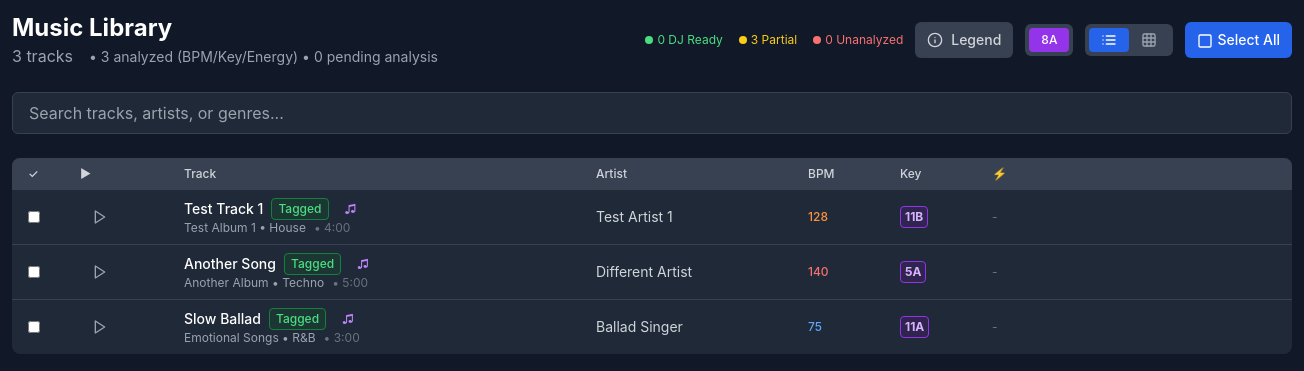
it: LibraryView Component › Search and Filtering › filters tracks by title
The image size is (1304, 371).
Expected: the text "Test Track 1" is shown, x1=184 y1=200 x2=263 y2=217
Type "Test Track" into the field with placeholder "Search tracks, artists, or genres...".
click(652, 113); type("Test Track")  # box x1=12 y1=92 x2=1292 y2=134
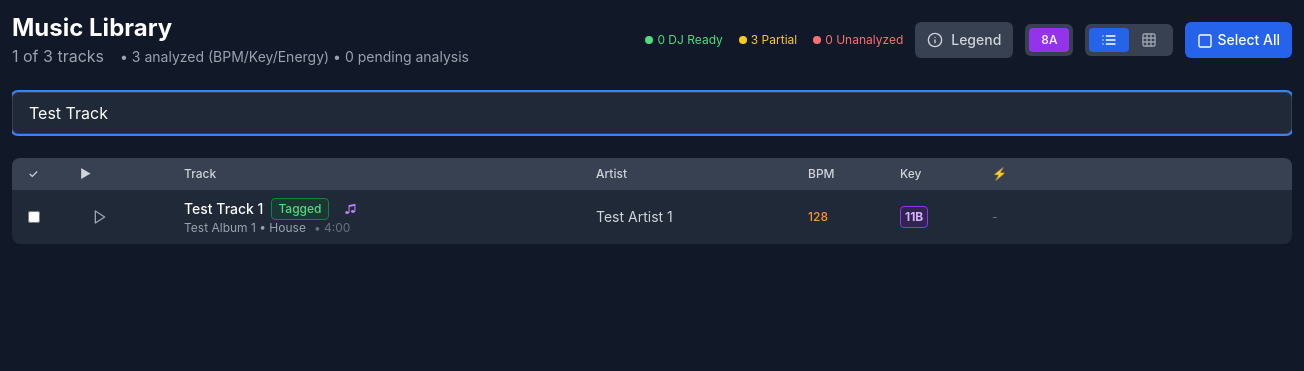
Expected: the text "Test Track 1" is shown, x1=184 y1=200 x2=263 y2=217
Result: the text "Another Song" is gone
Result: the text "Slow Ballad" is gone
